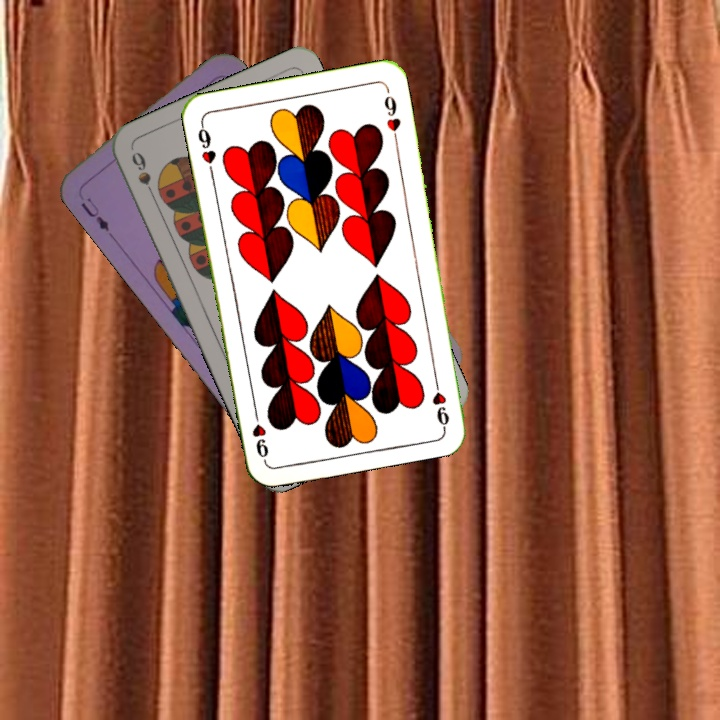EU: (76, 193, 112, 234)
H9: (193, 118, 219, 177), (429, 370, 452, 429)
S9: (127, 147, 159, 203)
